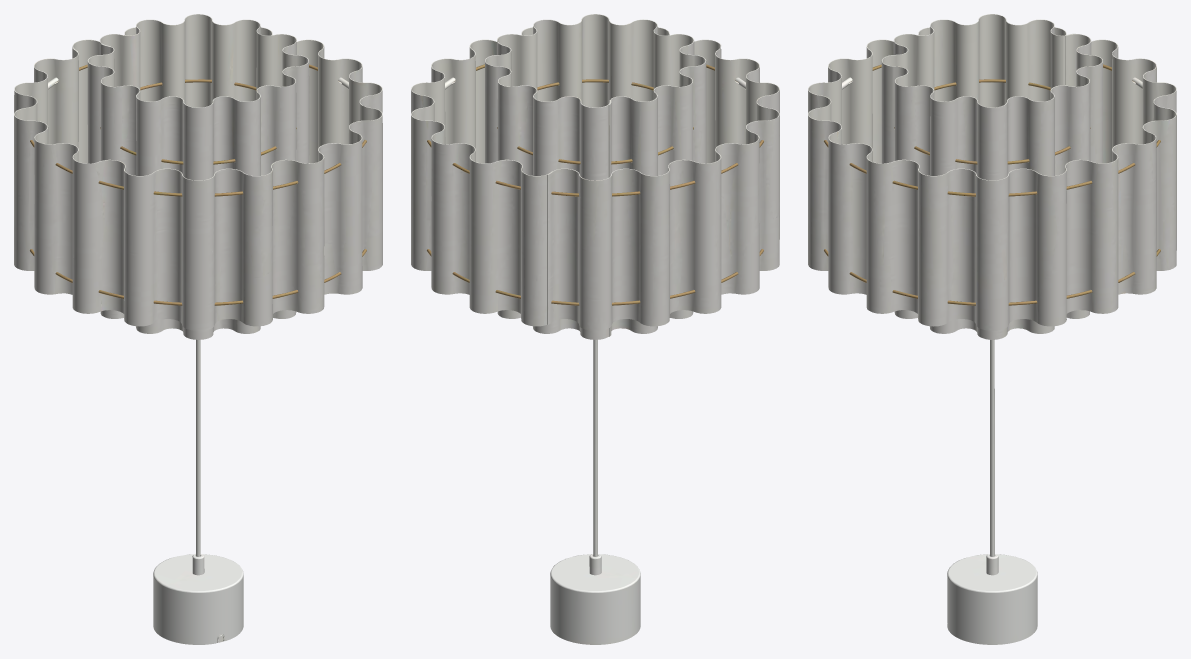
The picture shows the model from 3 angles, left to right: view 1: azimuth 30°, elevation 25°; view 2: azimuth 150°, elevation 25°; view 3: azimuth 270°, elevation 25°; orthographic projection.
Parts seen in each view (by area): view 1: 90585988-STOCKHOLM 001; view 2: 90585988-STOCKHOLM 001; view 3: 90585988-STOCKHOLM 001.
Boxes of the visible parts, x1,y1,x2,y2 form: 90585988-STOCKHOLM 001: [14, 14, 382, 644]; 90585988-STOCKHOLM 001: [411, 14, 779, 644]; 90585988-STOCKHOLM 001: [808, 14, 1176, 644].
Bounding box in the file's own units: 0.4973 × 0.8288 × 0.4904.
Materials: 1 (1 with a texture image).
